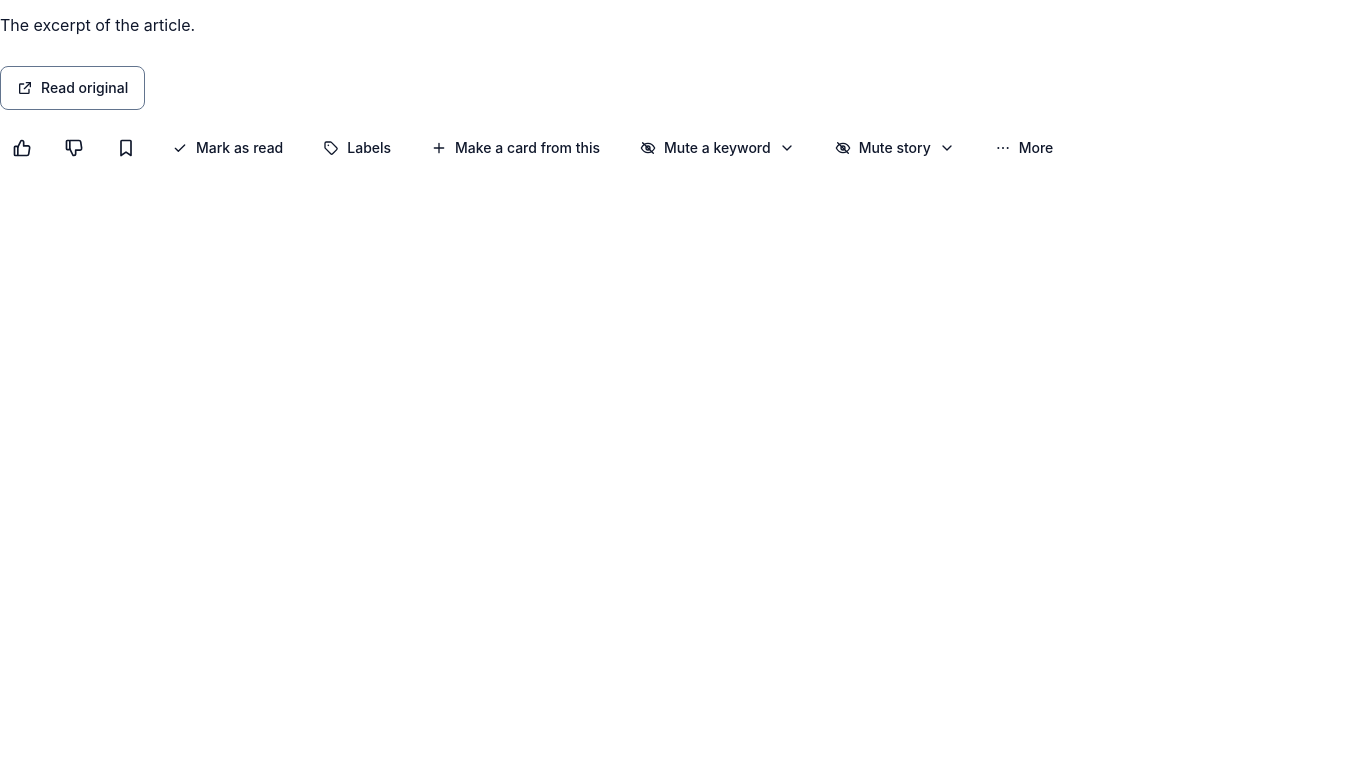
the reading pane card and keyword actions › opens the drafted card editor and gives the focus back to its button
This screenshot has width=1366, height=768.
Click the button "Make a card from this": (516, 148) left=415, top=126, right=616, bottom=170
(page scrolled)
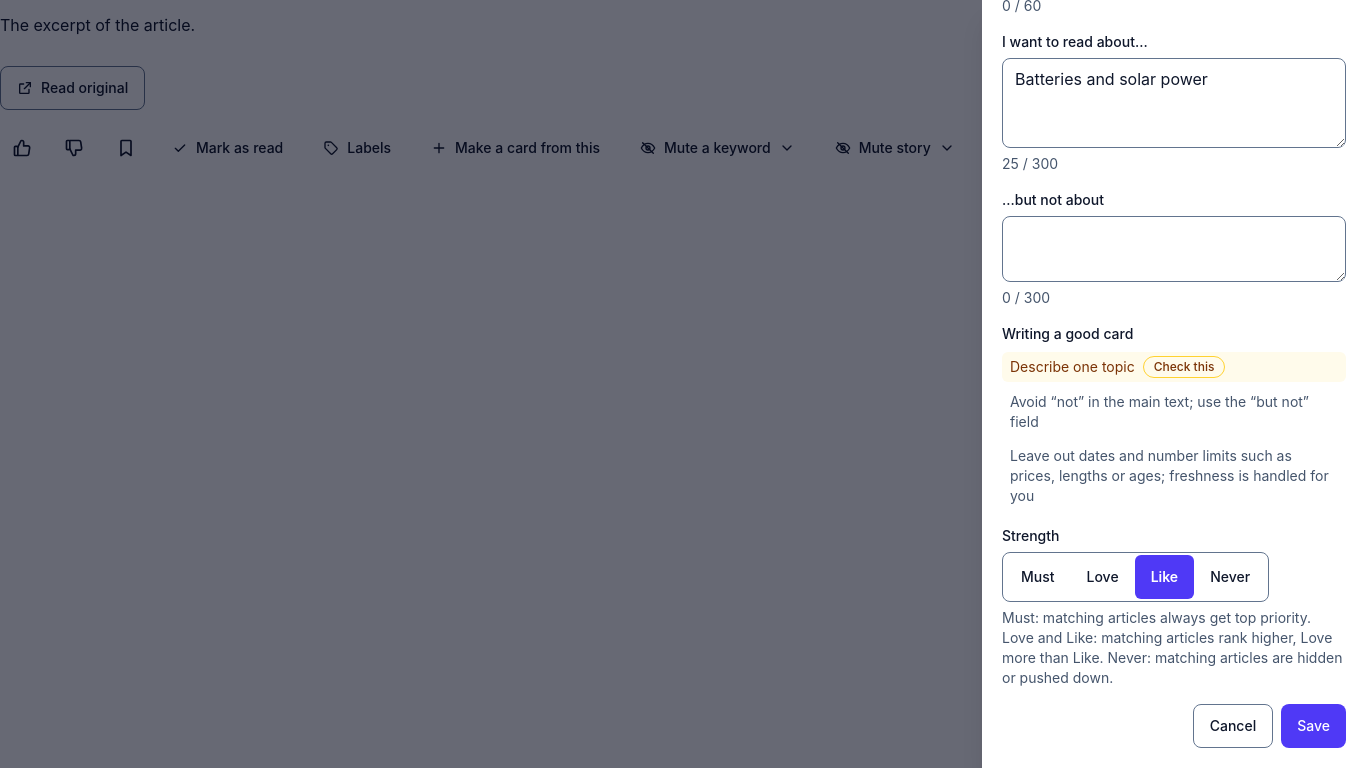
Click the button "Cancel": (1233, 726) left=1193, top=704, right=1273, bottom=748
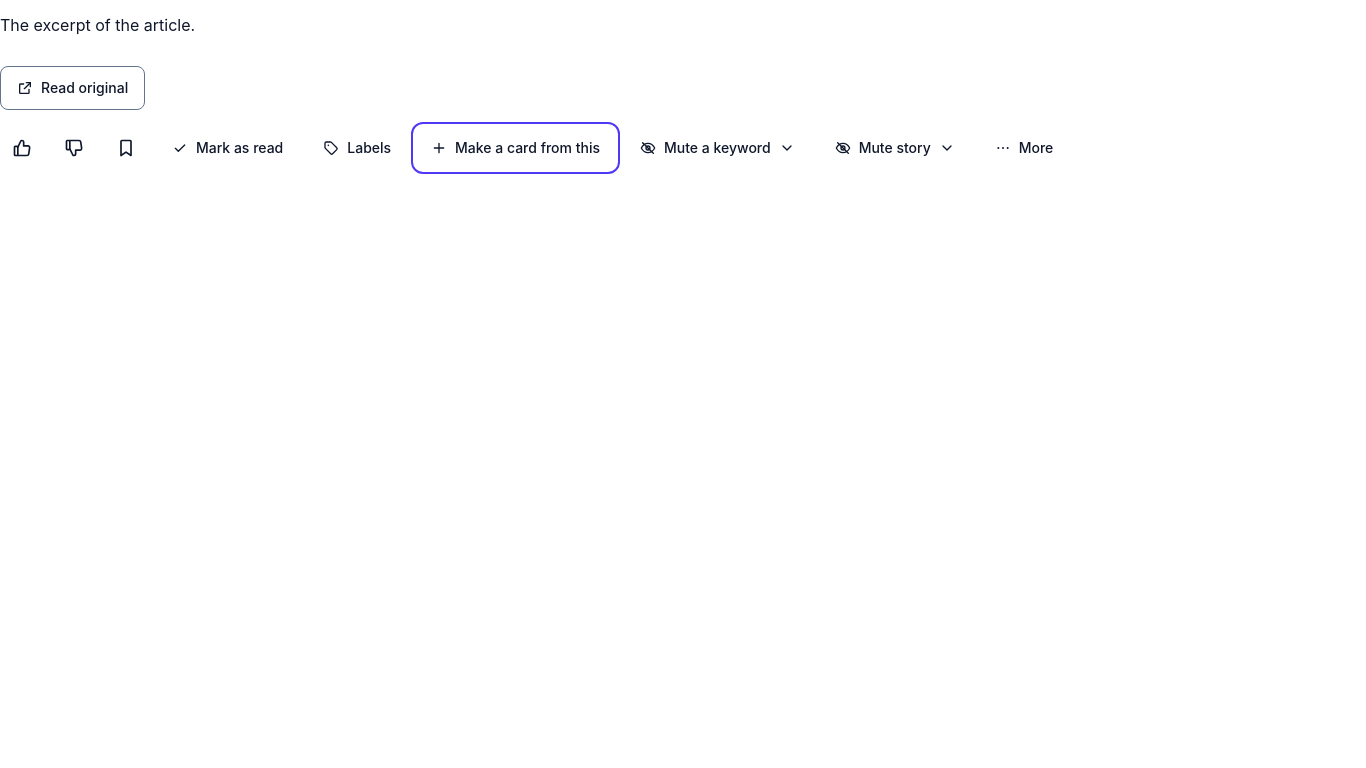
Now the dialog is gone
